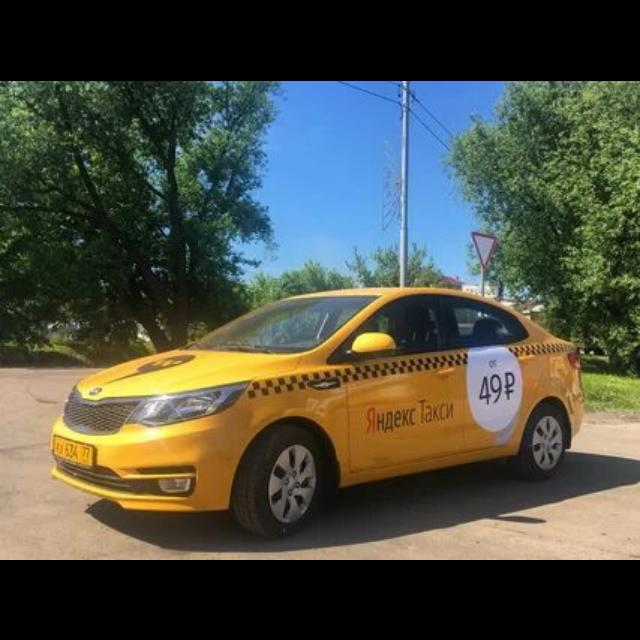taxi: (51, 285, 586, 539)
